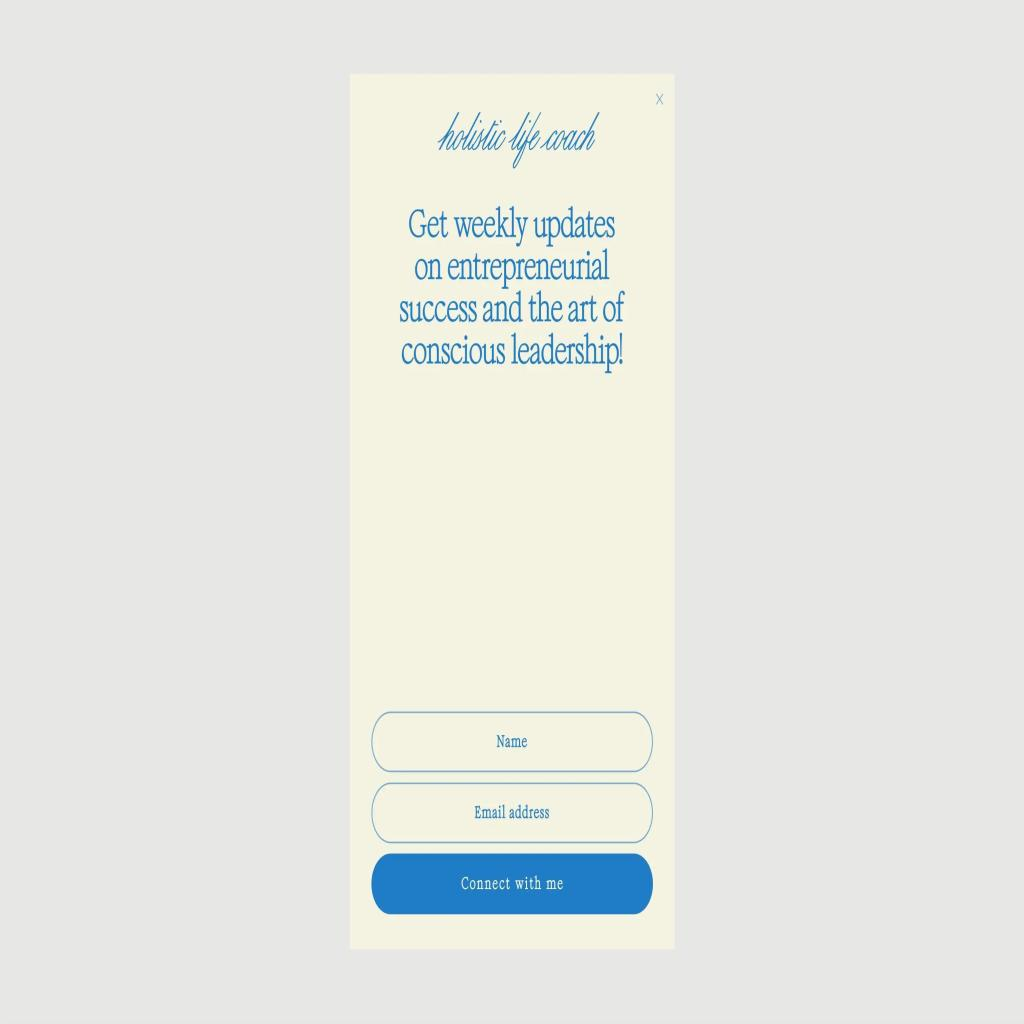button: (372, 851, 654, 915), (371, 710, 656, 772), (371, 782, 653, 842)
